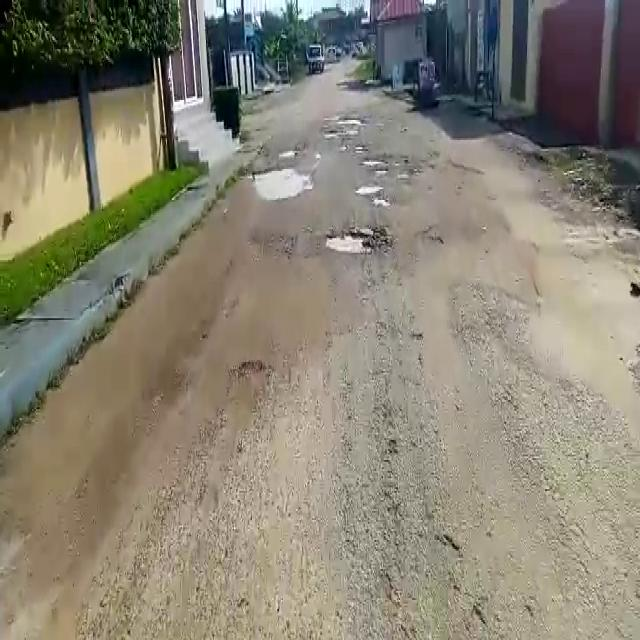Pothole: (250, 162, 310, 202), (328, 225, 388, 257), (366, 189, 400, 209), (352, 181, 386, 194)
